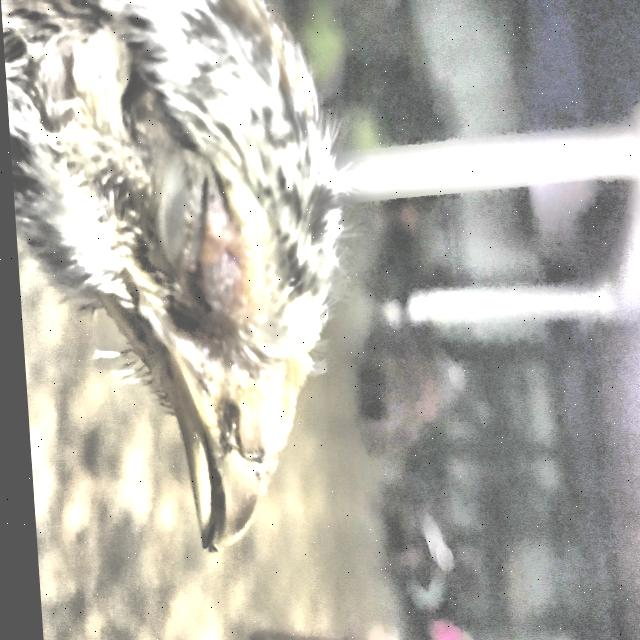Coryza: (1, 0, 403, 608)
